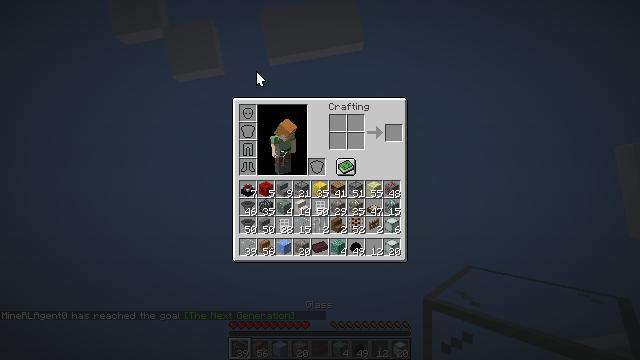cursor: (256, 71, 266, 87)
